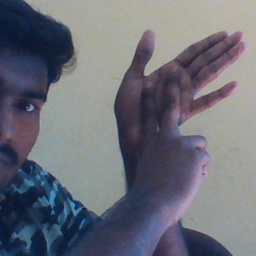N: (108, 26, 249, 178)
